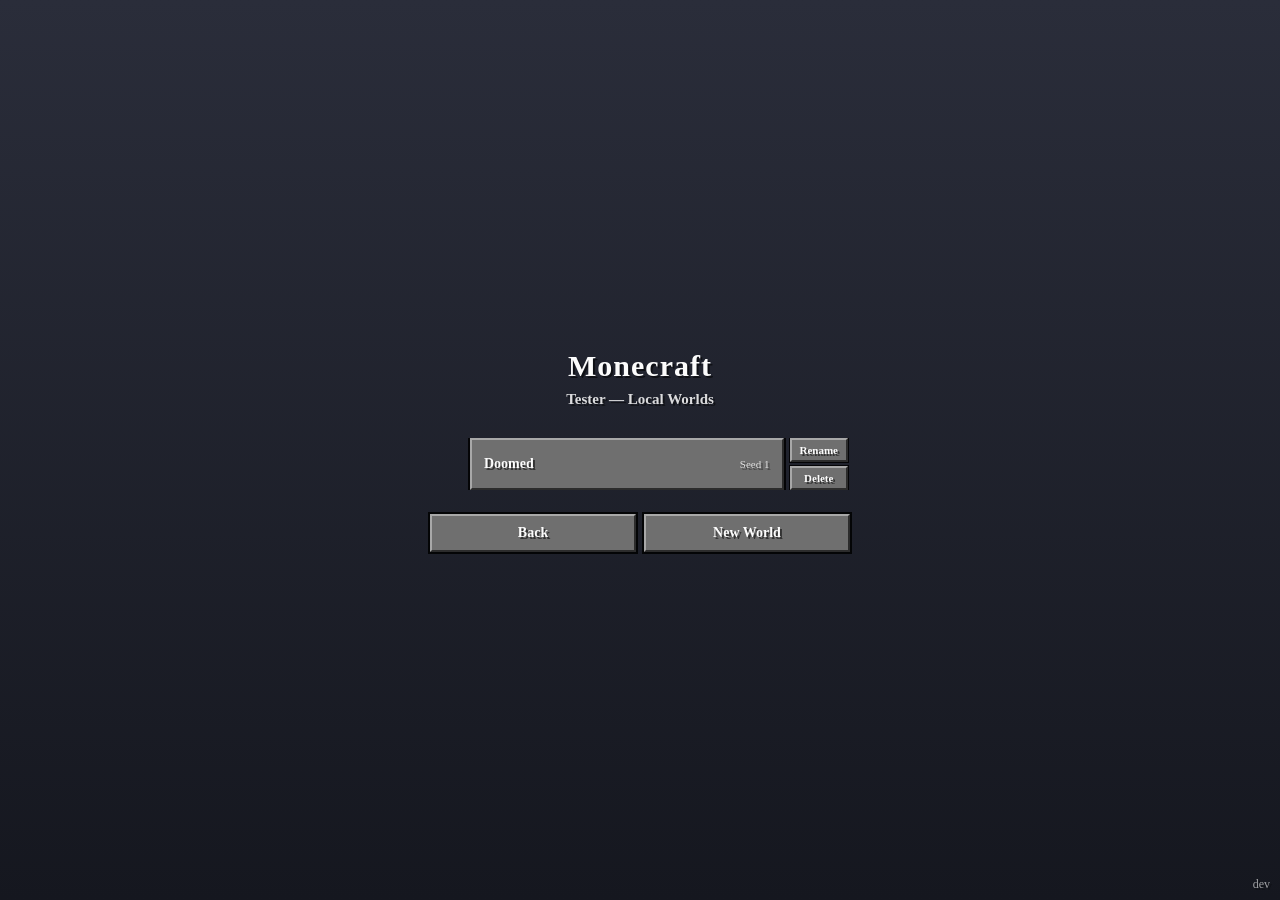
Scenario: WorldSelect › deleting a world removes it after confirmation
Click the button "Delete": (819, 478) [790,466,848,490]
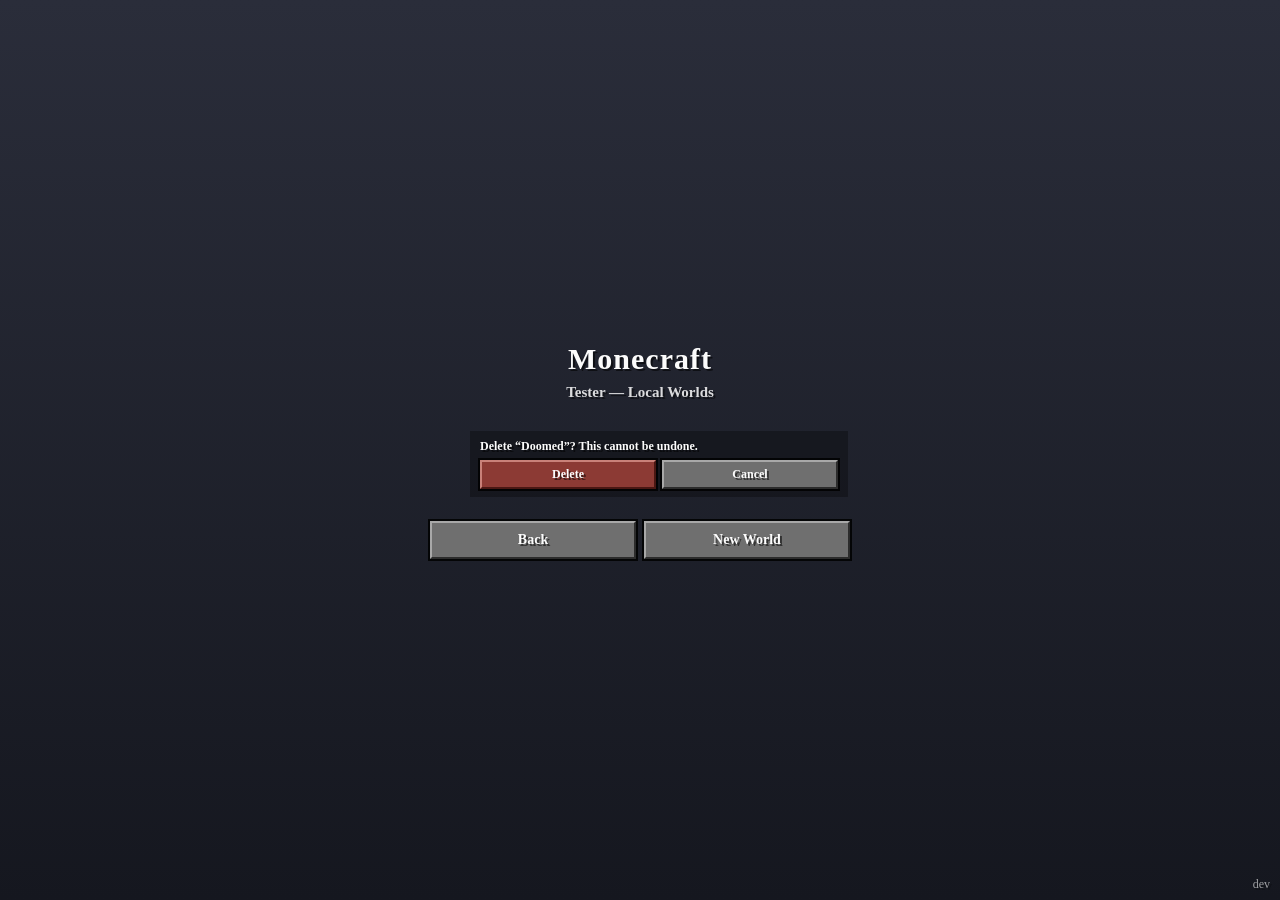
Click the button "Delete": (568, 474) [480,460,656,488]
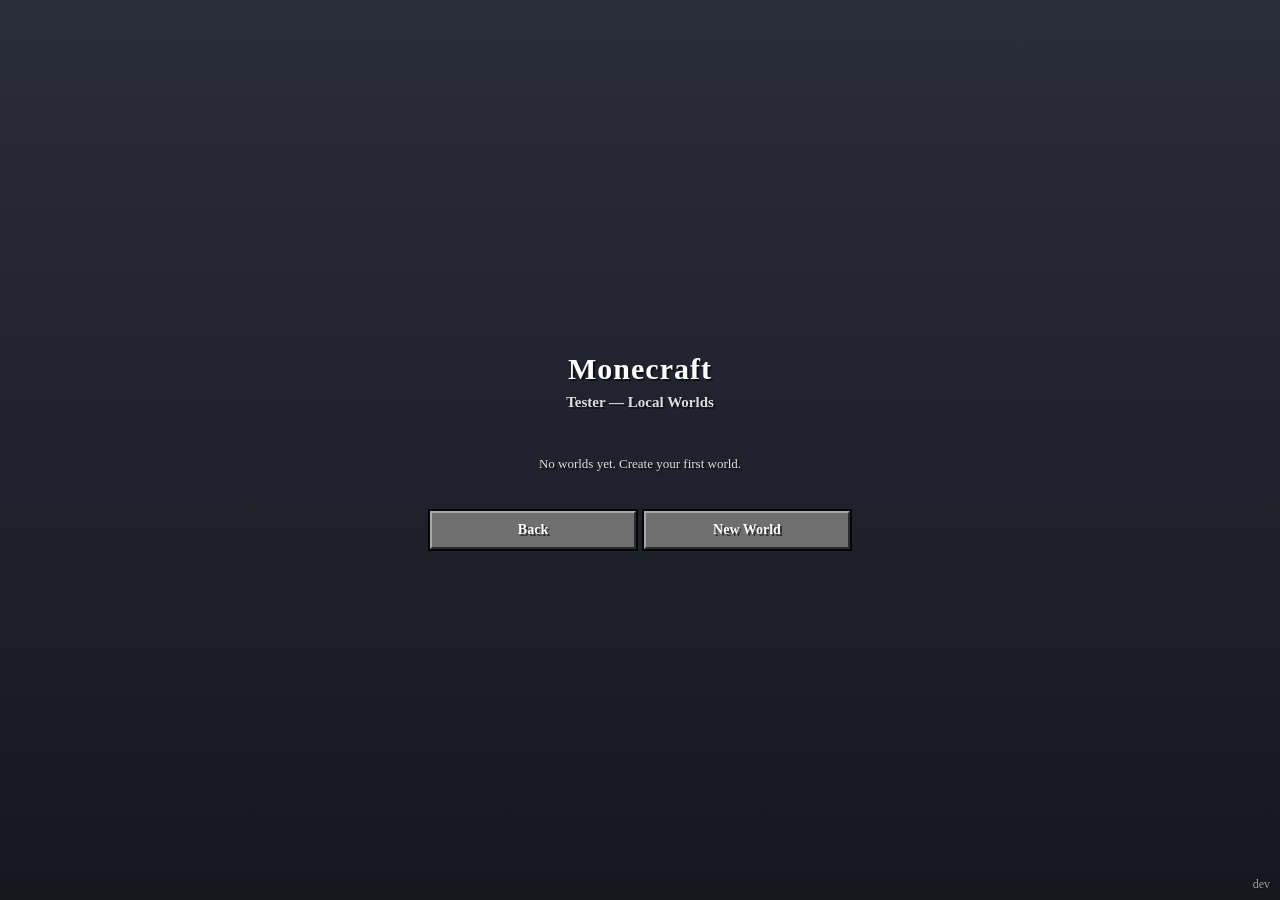
Now the text "Doomed" is gone
